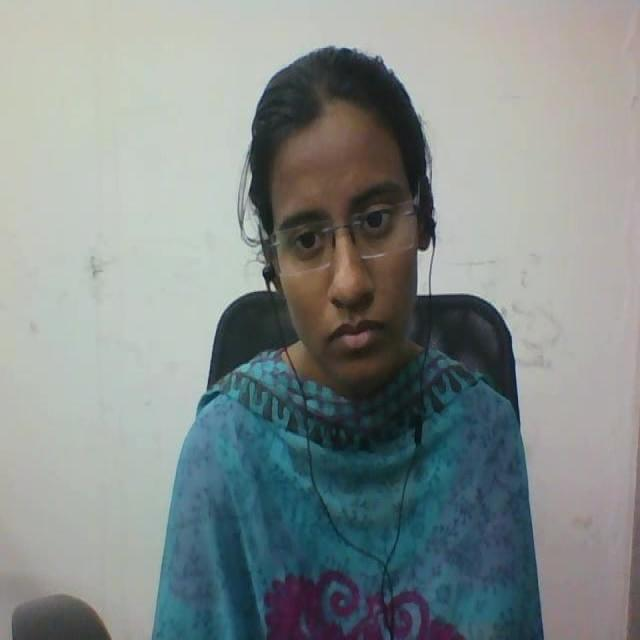Engaged: (226, 25, 496, 441)
